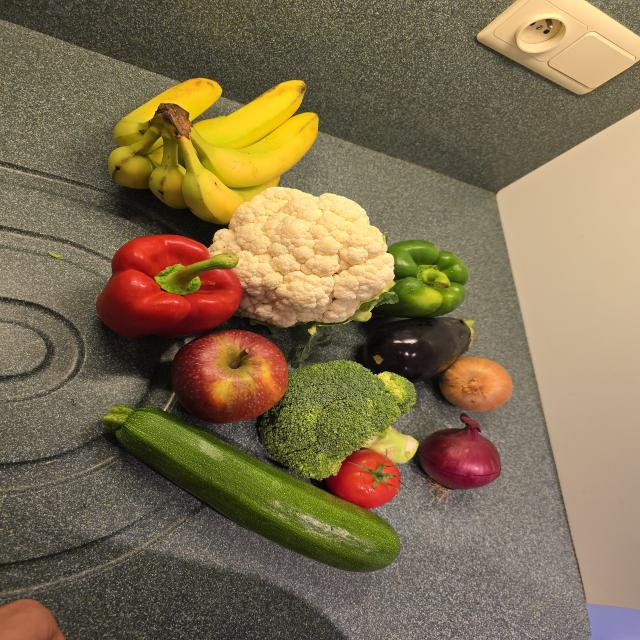Apple: (171, 330, 288, 423)
Banana: (108, 78, 319, 224)
Bell Pepper: (96, 235, 241, 338), (374, 240, 469, 317)
Broccoli: (258, 360, 419, 480)
Cauliflower: (209, 188, 394, 327)
Courgette: (104, 405, 400, 572)
Eggplant: (362, 317, 473, 383)
Onion: (418, 413, 501, 489), (439, 357, 512, 412)
Tomato: (325, 449, 400, 508)
